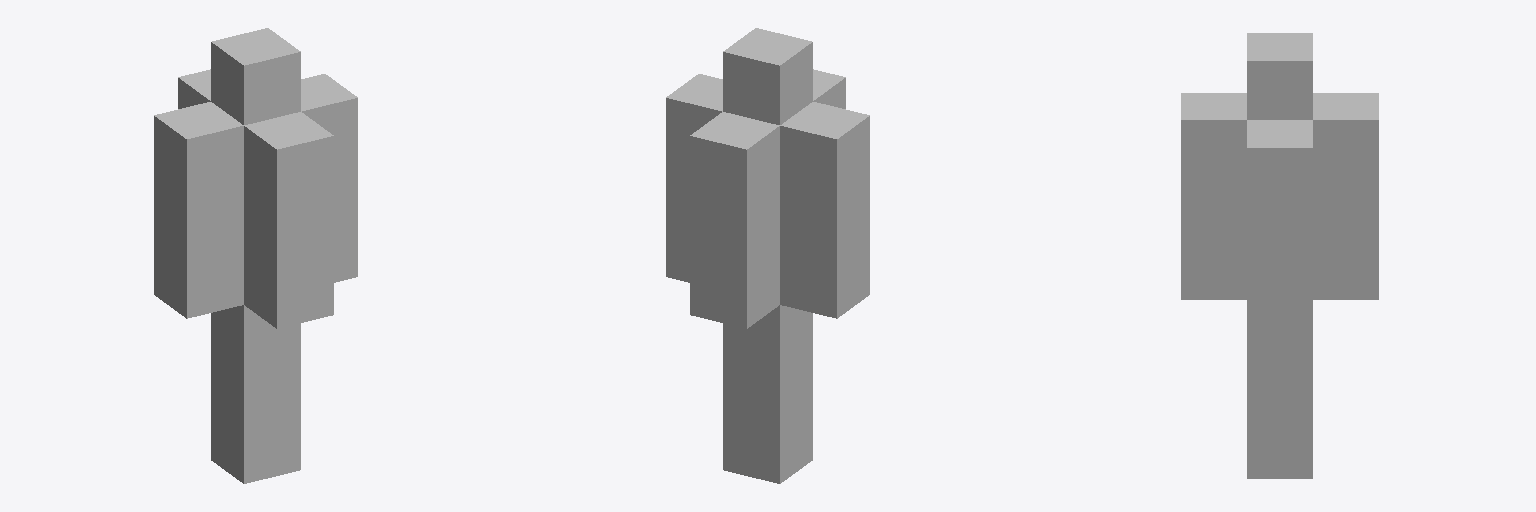
Rendered from Pine Tree(2) (Stage3).obj.
3 renders of one model, left to right at view 1: azimuth 30°, elevation 25°; view 2: azimuth 150°, elevation 25°; view 3: azimuth 270°, elevation 25°, orthographic.
Visible parts, largest first — view 1: object 1; view 2: object 1; view 3: object 1.
Part boxes in pixels (left/top/right/bottom): object 1: left=154, top=28, right=357, bottom=483; object 1: left=666, top=28, right=869, bottom=483; object 1: left=1181, top=33, right=1378, bottom=478.
Size of the model in its own units: 0.3 by 0.7 by 0.3.